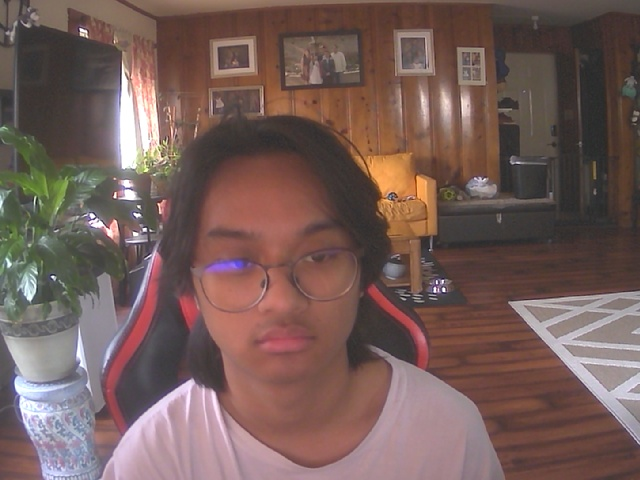neutral: (177, 133, 375, 396)
